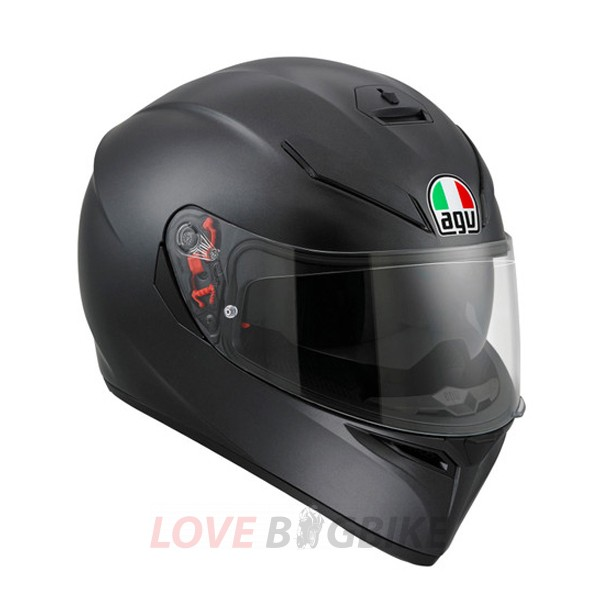Helmet: (57, 52, 538, 583)
